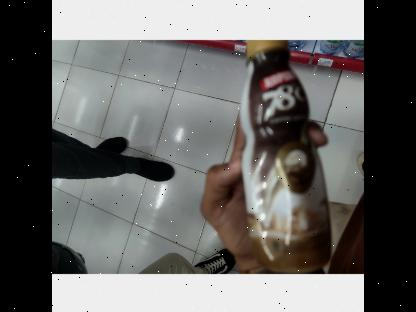Plastic Bottle: (222, 24, 330, 278)
